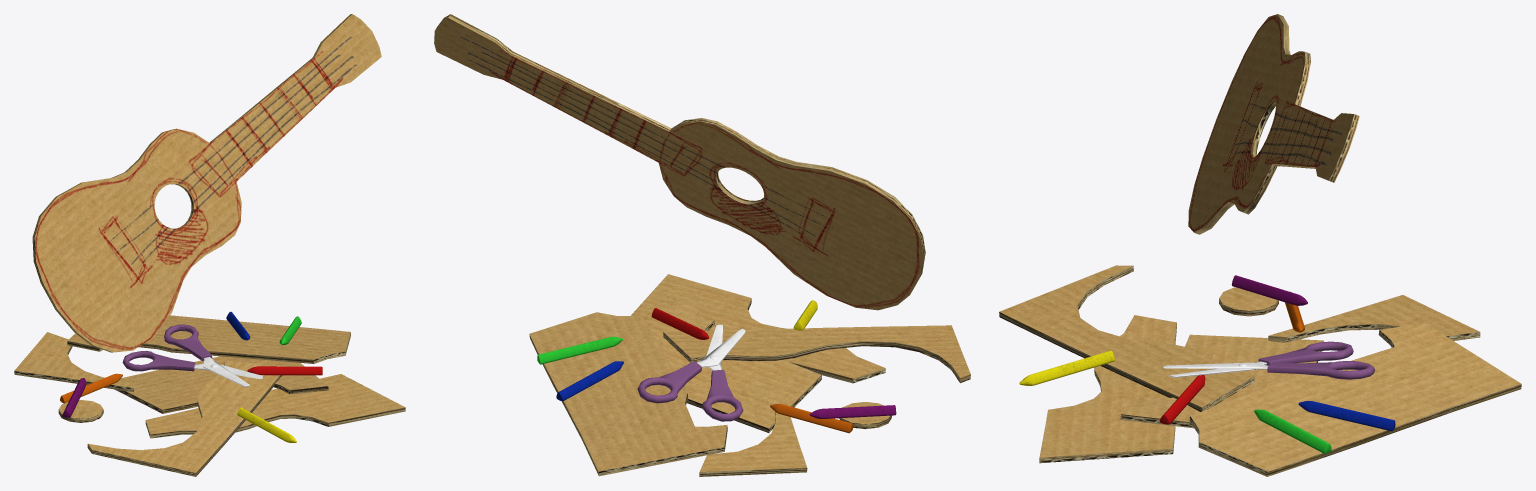
Rendered from cardboard_guitar.glb.
The picture shows the model from 3 angles, left to right: view 1: azimuth 30°, elevation 25°; view 2: azimuth 150°, elevation 25°; view 3: azimuth 270°, elevation 25°; orthographic projection. The views are drawn at different scales.
Visible parts, largest first — view 1: Object_2; view 2: Object_2; view 3: Object_2.
Boxes of the visible parts, box(x1,y1,x2,y2) form: Object_2: box(14, 14, 405, 476); Object_2: box(434, 14, 970, 476); Object_2: box(999, 14, 1521, 476).
Bounding box in the file's own units: 27.12 × 20.6 × 24.47.
Materials: 1 (1 with a texture image).
